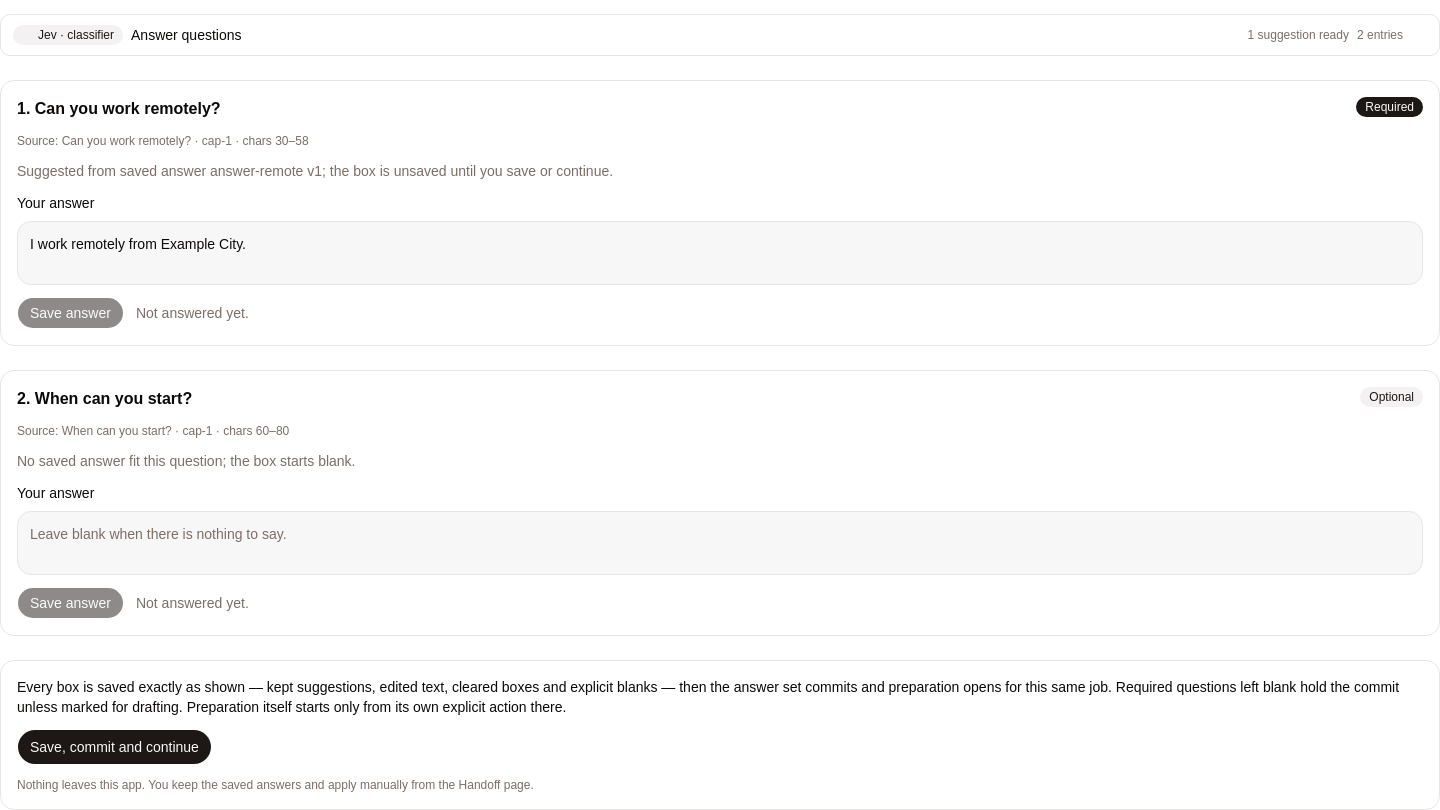
Test case: answers page saves › reports a version conflict without losing the box text
The image size is (1440, 810).
(page scrolled)
In the text box labelled "Your answer" below "60": (720, 543) [17,511,1423,575], type "Conflicted text."
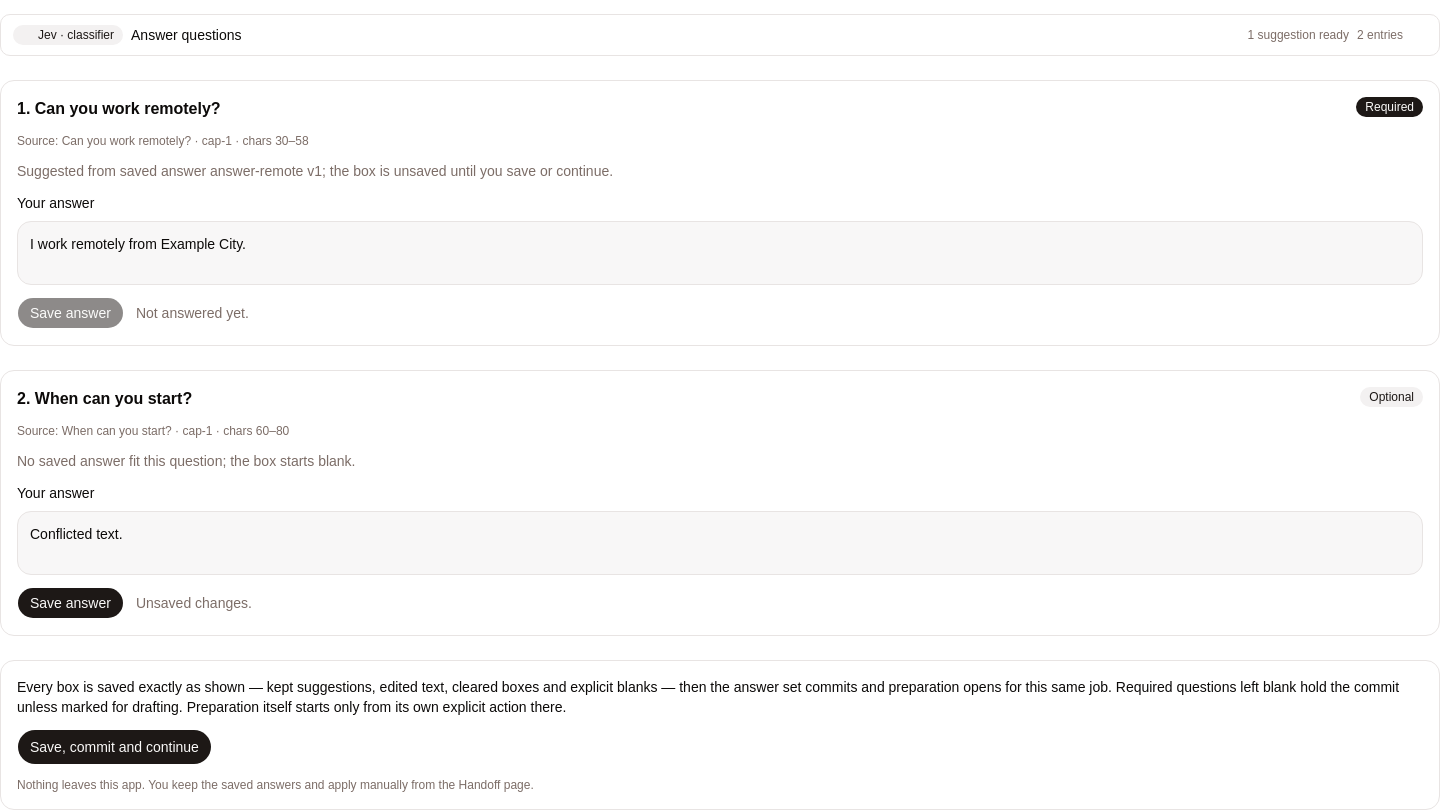
Click the button "Save answer" next to "Unsaved changes.": (70, 603) [17,587,124,619]
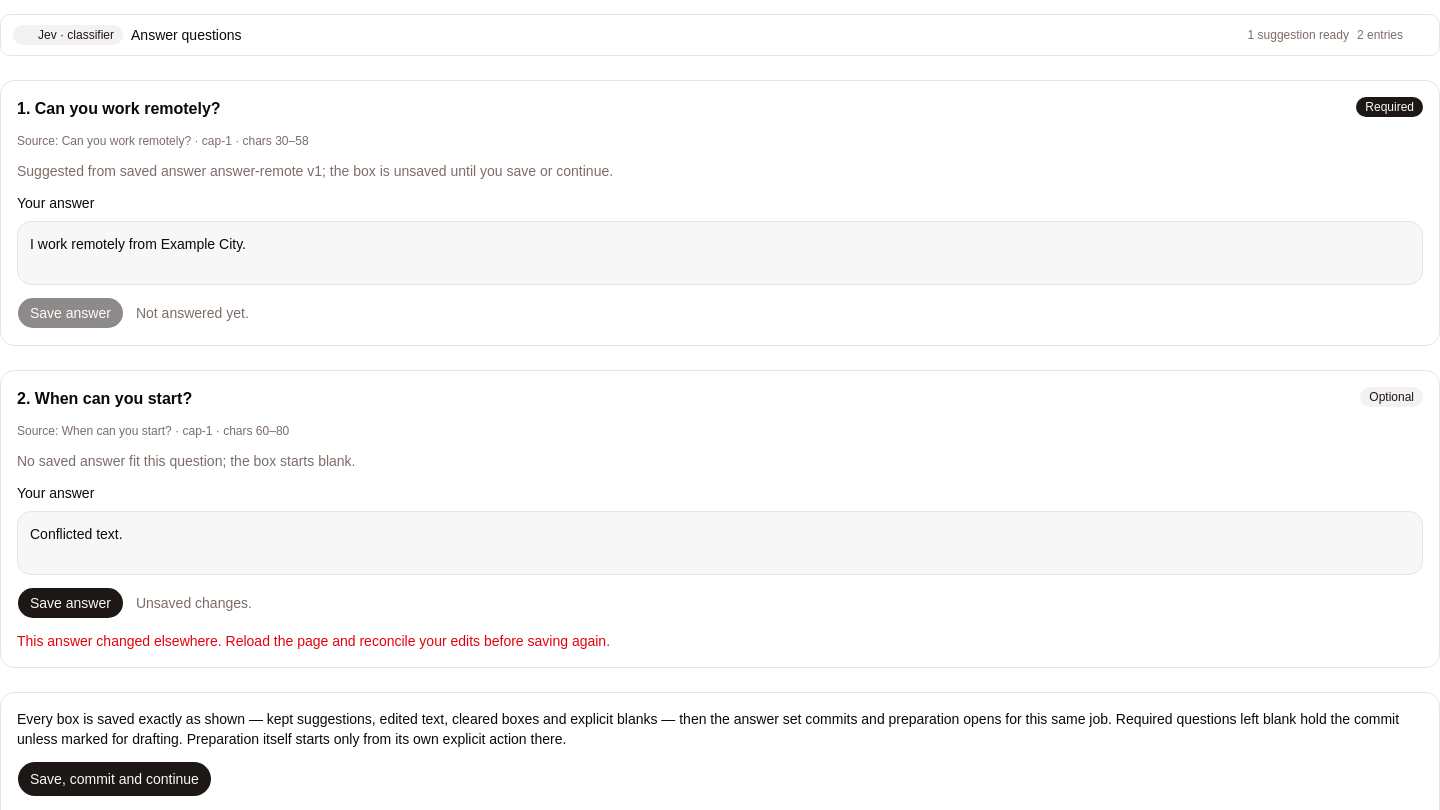
Expected: the text "This answer changed elsewhere." is shown, [17,633,610,649]
